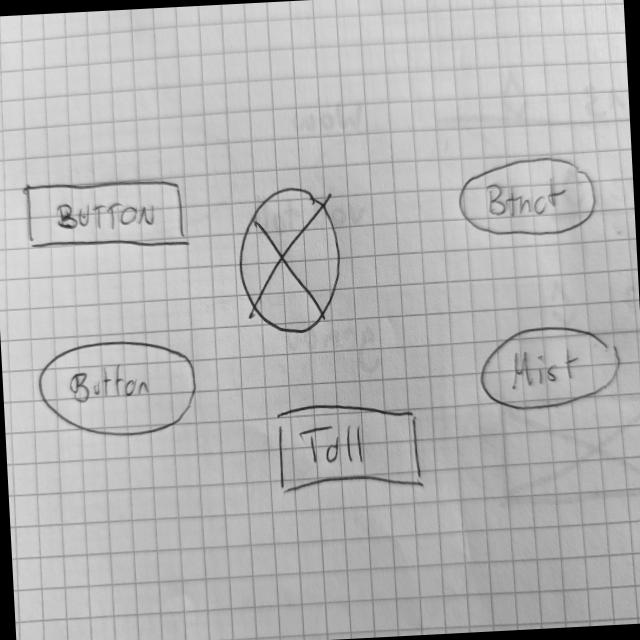button: (38, 334, 204, 443), (270, 398, 429, 498), (21, 172, 192, 256), (477, 320, 623, 412), (454, 153, 598, 242)
image: (230, 182, 348, 337)
